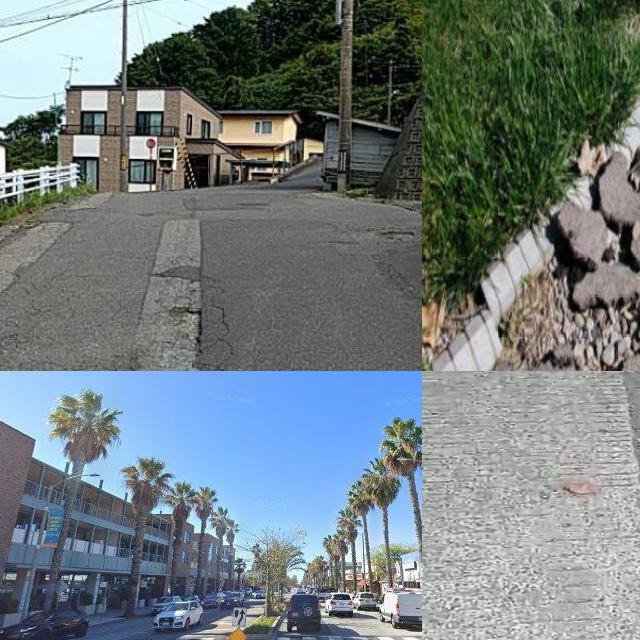Pinggir: (434, 65, 640, 371)
Sambungan: (422, 371, 640, 640), (199, 216, 422, 371)
